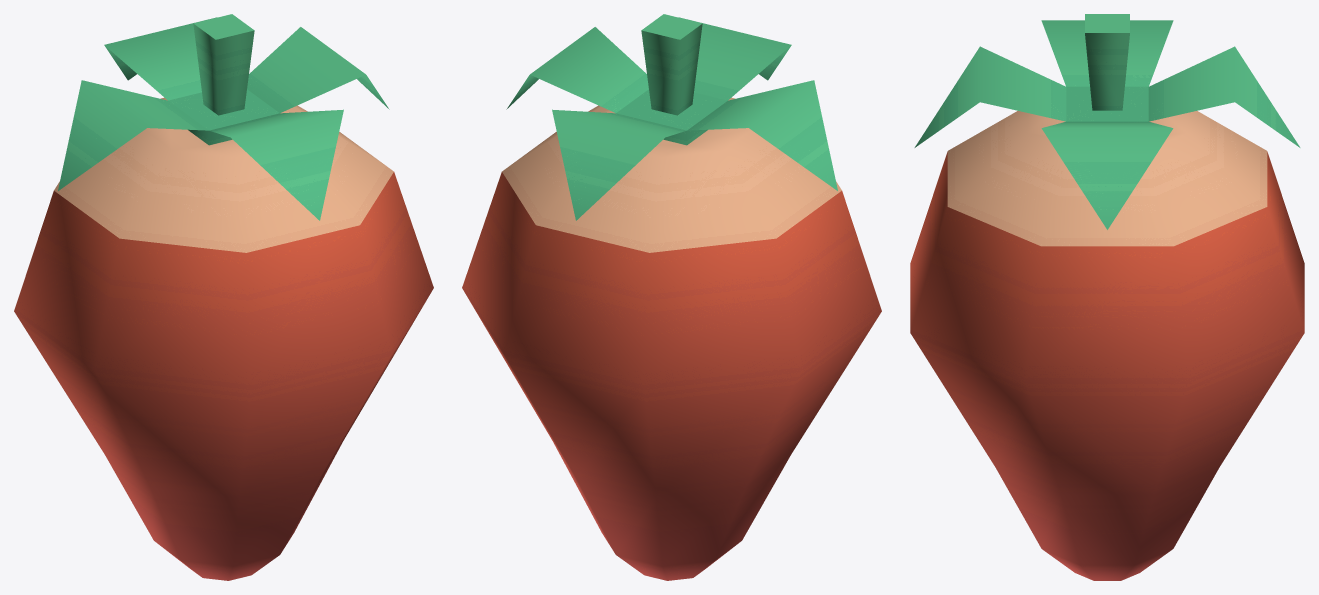
File: strawberry.glb
3 renders of one model, left to right at view 1: azimuth 30°, elevation 25°; view 2: azimuth 150°, elevation 25°; view 3: azimuth 270°, elevation 25°, orthographic.
Parts seen in each view (by area): view 1: strawberry; view 2: strawberry; view 3: strawberry.
Boxes of the visible parts, <box> form: strawberry: <box>14,14,433,580</box>; strawberry: <box>462,14,881,580</box>; strawberry: <box>910,14,1304,580</box>.
Bounding box in the file's own units: 0.1197 × 0.182 × 0.1197.
1 material, 1 textured.
